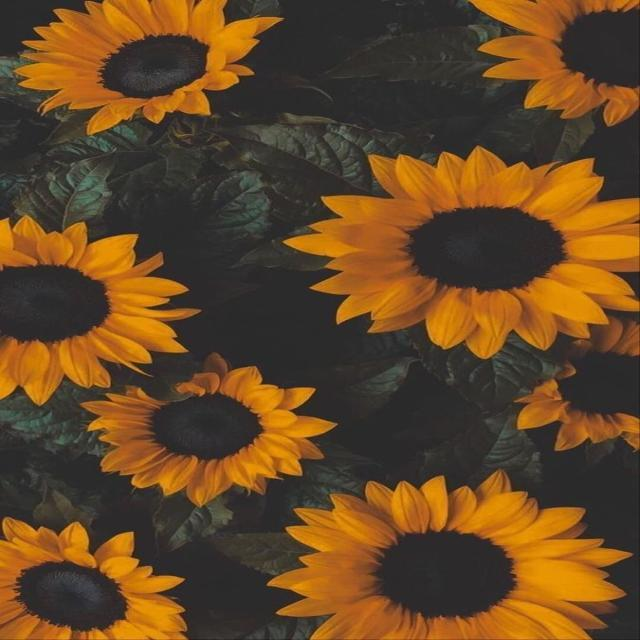sunflower: (281, 144, 638, 360), (264, 469, 632, 639), (78, 352, 338, 507), (0, 215, 202, 406), (12, 0, 284, 135), (0, 517, 188, 639), (469, 0, 639, 126), (511, 314, 638, 452)
